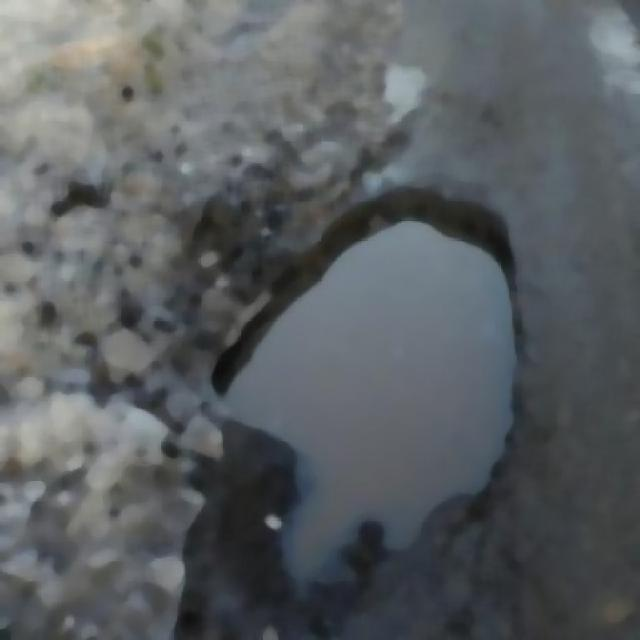Pothole: (203, 178, 534, 577)
